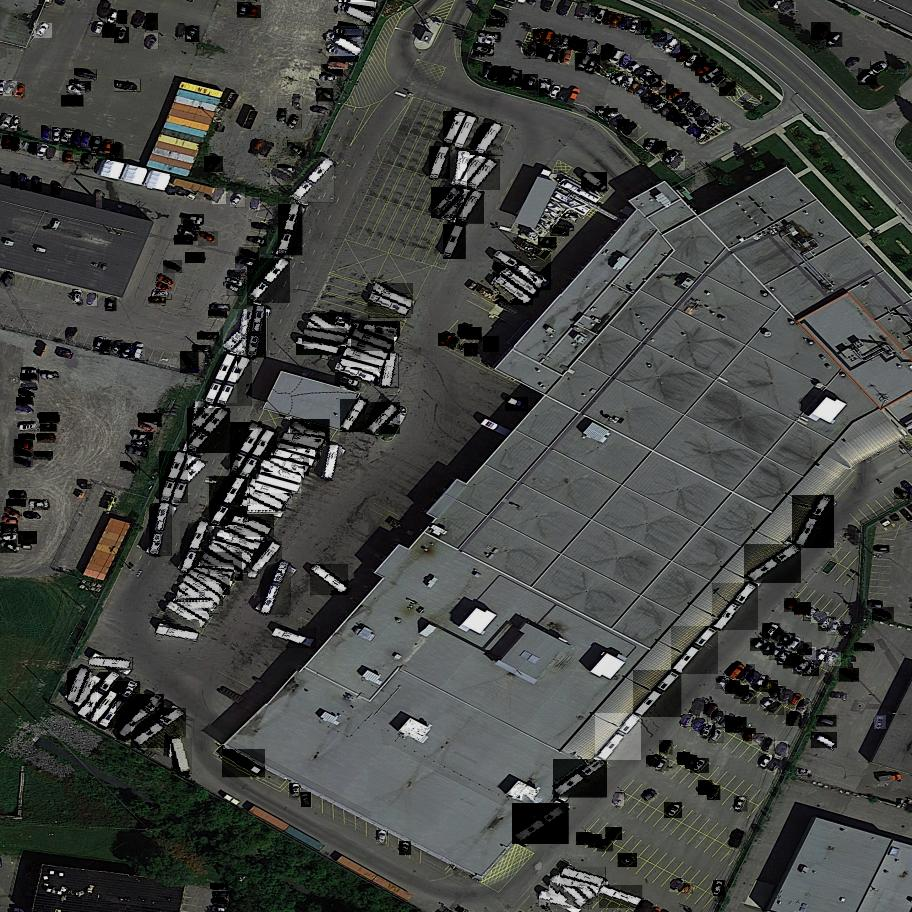large-vehicle: (671, 625, 720, 678), (633, 668, 682, 720), (793, 492, 835, 551), (744, 543, 801, 586), (595, 711, 641, 764), (493, 250, 552, 291), (117, 693, 165, 743), (712, 581, 758, 633), (131, 707, 186, 750), (553, 758, 608, 801), (513, 803, 569, 845), (98, 680, 141, 732), (79, 671, 123, 721), (163, 458, 209, 504), (188, 407, 232, 455), (239, 427, 278, 481), (209, 474, 247, 529), (215, 355, 253, 408), (224, 308, 268, 353), (293, 159, 337, 204), (248, 258, 290, 304), (231, 421, 263, 478), (181, 519, 212, 576), (260, 561, 291, 618), (205, 353, 237, 406), (160, 450, 189, 505), (560, 865, 597, 903), (551, 874, 590, 910), (222, 748, 265, 780), (279, 203, 304, 258), (311, 563, 351, 597), (179, 582, 220, 615), (309, 313, 351, 345), (200, 552, 244, 582), (166, 601, 208, 632), (184, 574, 223, 607), (374, 282, 414, 314), (209, 542, 250, 573), (365, 400, 400, 436), (501, 267, 539, 300), (495, 275, 533, 307), (150, 502, 172, 557), (291, 419, 330, 450), (262, 460, 303, 489), (188, 569, 230, 597), (244, 486, 286, 514), (468, 158, 501, 193), (431, 186, 464, 220), (230, 512, 273, 538), (250, 479, 293, 505), (369, 294, 411, 320), (72, 676, 103, 711), (218, 529, 261, 554), (92, 688, 119, 727), (226, 521, 268, 546), (475, 122, 504, 158), (335, 321, 400, 337), (211, 539, 256, 562), (252, 541, 282, 575), (325, 31, 364, 57), (459, 155, 487, 191), (457, 190, 485, 226), (600, 885, 643, 908), (335, 363, 378, 386), (352, 330, 395, 353), (341, 398, 369, 433), (248, 305, 266, 359), (560, 867, 606, 888), (446, 187, 471, 225), (347, 339, 390, 361), (272, 628, 317, 649), (256, 474, 301, 495), (67, 666, 91, 705), (444, 111, 470, 147), (190, 401, 207, 454), (272, 448, 316, 468), (338, 3, 376, 26), (343, 348, 386, 368), (297, 337, 342, 356), (456, 115, 479, 152), (171, 738, 193, 776), (443, 224, 466, 260), (277, 441, 320, 460), (430, 144, 451, 182), (267, 458, 309, 476), (156, 625, 200, 642), (304, 328, 348, 345), (325, 444, 343, 481), (381, 352, 399, 389), (582, 171, 608, 196), (539, 891, 576, 908), (192, 567, 236, 581), (282, 434, 325, 448), (90, 657, 132, 671), (339, 361, 384, 374), (329, 44, 358, 63), (456, 151, 470, 186), (241, 504, 284, 514), (172, 602, 214, 611), (336, 30, 364, 38)
small-vehicle: (812, 732, 838, 752), (270, 168, 295, 187), (181, 350, 200, 374), (654, 33, 676, 53), (735, 664, 755, 686), (727, 828, 746, 851), (699, 67, 723, 85), (727, 661, 747, 682), (258, 141, 277, 163), (812, 22, 832, 42), (763, 622, 781, 644), (725, 717, 747, 735), (125, 445, 149, 461), (505, 397, 529, 413), (131, 11, 150, 31), (784, 652, 804, 671), (663, 148, 683, 167), (555, 218, 578, 234), (204, 155, 223, 174), (178, 225, 198, 243), (505, 69, 523, 89), (321, 64, 343, 80), (138, 413, 163, 427), (665, 801, 683, 820), (524, 41, 542, 60), (199, 231, 219, 248), (115, 79, 141, 92), (575, 1, 591, 22), (815, 647, 830, 669), (35, 22, 53, 40), (859, 69, 877, 87), (521, 74, 539, 92), (691, 758, 709, 776), (871, 58, 890, 75), (575, 53, 592, 72), (759, 696, 778, 713), (750, 637, 769, 654), (251, 138, 267, 158), (840, 668, 860, 684), (489, 8, 509, 24), (18, 387, 39, 402), (586, 54, 601, 75), (873, 607, 894, 622), (695, 63, 716, 78), (692, 698, 707, 719), (157, 273, 175, 290), (758, 753, 775, 771), (664, 38, 681, 56), (67, 85, 86, 101), (80, 152, 96, 171), (287, 142, 306, 158), (91, 20, 107, 39), (777, 633, 796, 649), (619, 853, 638, 869), (163, 260, 183, 275), (240, 247, 260, 262), (120, 461, 140, 476), (829, 618, 844, 638), (755, 674, 770, 694), (701, 721, 716, 741), (235, 255, 256, 269), (13, 447, 34, 461), (826, 31, 843, 48), (803, 662, 820, 679), (70, 130, 86, 148), (44, 145, 60, 163), (286, 113, 302, 131), (845, 57, 863, 73), (684, 52, 700, 70), (794, 660, 812, 676), (483, 336, 499, 354), (577, 830, 593, 848), (606, 826, 622, 844), (487, 65, 503, 83), (709, 727, 725, 745), (726, 679, 742, 697), (623, 121, 639, 139), (473, 43, 495, 56), (224, 282, 243, 297), (707, 784, 722, 803), (13, 456, 33, 470), (111, 143, 125, 163), (61, 96, 84, 108), (181, 214, 204, 226), (100, 339, 116, 356), (111, 340, 127, 357), (231, 193, 247, 210), (317, 88, 334, 104), (144, 33, 160, 50), (768, 700, 784, 717), (691, 57, 707, 74), (676, 48, 693, 64), (635, 20, 651, 37), (770, 685, 786, 702), (804, 607, 820, 624), (789, 637, 805, 654), (777, 650, 793, 667), (458, 324, 474, 341), (678, 96, 694, 113), (711, 73, 728, 89), (120, 342, 135, 360), (4, 80, 19, 98), (60, 128, 75, 146), (213, 188, 228, 206), (5, 506, 23, 521), (186, 25, 201, 43), (102, 22, 117, 40), (734, 684, 749, 702), (770, 644, 785, 662), (438, 332, 456, 347), (699, 780, 714, 798), (672, 91, 690, 106), (646, 94, 664, 109), (131, 343, 145, 362), (19, 531, 38, 545), (238, 1, 252, 20), (115, 26, 129, 45), (787, 710, 801, 729), (75, 69, 97, 81), (225, 277, 245, 290), (817, 715, 837, 728), (0, 272, 16, 288), (795, 601, 811, 617), (785, 598, 801, 614), (825, 651, 841, 667), (741, 690, 757, 706), (467, 327, 483, 343), (670, 878, 686, 894), (597, 838, 613, 854), (698, 112, 714, 128), (653, 99, 669, 115), (659, 83, 675, 99), (633, 83, 649, 99), (720, 82, 736, 98), (775, 741, 790, 758), (768, 758, 783, 775), (670, 45, 687, 60), (819, 617, 836, 632), (797, 641, 812, 658), (641, 789, 658, 804), (706, 117, 723, 132), (674, 113, 691, 128), (641, 89, 656, 106), (646, 755, 663, 770), (715, 676, 732, 691), (644, 137, 659, 154), (156, 281, 174, 295), (140, 422, 158, 436), (790, 692, 804, 710), (602, 45, 616, 63), (811, 611, 829, 625), (665, 88, 683, 102), (0, 540, 19, 553), (538, 236, 557, 249), (498, 66, 511, 85), (66, 327, 81, 343), (20, 381, 40, 393), (247, 236, 267, 248), (341, 379, 361, 391), (764, 679, 779, 695), (747, 671, 762, 687), (680, 118, 696, 133), (653, 80, 669, 95), (656, 758, 671, 774), (692, 717, 708, 732), (719, 714, 734, 730), (80, 132, 94, 149), (247, 4, 261, 21), (107, 8, 121, 25), (762, 736, 776, 753), (797, 699, 811, 716), (611, 50, 625, 67), (840, 623, 854, 640), (478, 36, 495, 50), (536, 42, 550, 59), (688, 102, 702, 119), (662, 102, 676, 119), (645, 75, 662, 89), (705, 703, 719, 720), (610, 114, 627, 128), (672, 155, 686, 172), (779, 2, 797, 15), (543, 29, 556, 47), (29, 500, 50, 511), (186, 252, 205, 264), (15, 439, 34, 451), (146, 13, 158, 32), (550, 225, 569, 237), (735, 795, 747, 814), (687, 123, 702, 138), (712, 711, 727, 726), (0, 113, 14, 129), (619, 16, 633, 32), (626, 61, 642, 75), (895, 488, 911, 502), (621, 75, 635, 91), (548, 85, 562, 101), (545, 47, 559, 63), (666, 108, 682, 122), (696, 127, 710, 143), (604, 108, 618, 124), (681, 713, 695, 729), (651, 141, 667, 155), (595, 8, 608, 25), (632, 66, 649, 79), (611, 72, 628, 85), (628, 18, 641, 35), (780, 689, 793, 706), (628, 79, 641, 96), (660, 740, 673, 757), (40, 413, 60, 424), (278, 164, 298, 175), (563, 49, 575, 67), (713, 879, 725, 897), (691, 109, 709, 121), (71, 81, 92, 91), (610, 14, 624, 29), (771, 630, 785, 645), (465, 343, 479, 358), (533, 29, 547, 44), (174, 235, 193, 246), (310, 105, 329, 116), (651, 32, 667, 45), (641, 68, 654, 84), (589, 834, 602, 850), (289, 783, 302, 799), (94, 336, 106, 353), (102, 138, 114, 155), (744, 727, 756, 744), (875, 714, 887, 731), (685, 754, 697, 771), (19, 423, 39, 433), (251, 222, 271, 232), (2, 524, 20, 535), (540, 79, 551, 97), (753, 734, 768, 747), (620, 54, 633, 69), (448, 336, 461, 351), (376, 830, 389, 845), (63, 150, 75, 166), (185, 222, 201, 234), (763, 641, 775, 657), (399, 841, 411, 857), (329, 60, 348, 70), (106, 296, 117, 313), (867, 599, 884, 610), (678, 752, 691, 766), (87, 293, 99, 308), (21, 374, 39, 384), (10, 116, 22, 131), (133, 432, 153, 441), (33, 452, 53, 461), (806, 647, 818, 662), (682, 882, 694, 897), (613, 792, 625, 807), (480, 32, 500, 41), (301, 792, 312, 808), (235, 264, 254, 273), (486, 19, 505, 28), (25, 511, 42, 521), (561, 213, 578, 223), (618, 119, 631, 132), (198, 332, 219, 340), (596, 106, 610, 118), (92, 136, 103, 151), (32, 178, 43, 193), (16, 398, 34, 407), (37, 434, 55, 443), (41, 372, 61, 380), (16, 83, 26, 99), (320, 74, 340, 82), (6, 500, 26, 508), (854, 643, 874, 651), (72, 290, 83, 304), (16, 406, 33, 415), (152, 291, 171, 299), (37, 144, 47, 159), (589, 5, 599, 20), (212, 896, 227, 906), (53, 127, 62, 143), (2, 515, 18, 524), (2, 534, 18, 543), (214, 891, 232, 899), (570, 37, 581, 50), (605, 12, 615, 26), (52, 183, 62, 197), (22, 368, 39, 376), (40, 424, 57, 432), (131, 440, 148, 448), (193, 345, 210, 353), (483, 62, 491, 79), (229, 273, 248, 280), (2, 135, 11, 149), (830, 692, 848, 699), (178, 24, 186, 39), (21, 176, 29, 191), (30, 142, 39, 155), (211, 305, 230, 311), (294, 94, 302, 108), (588, 40, 596, 54), (209, 311, 227, 317), (210, 884, 228, 890), (11, 173, 18, 188), (42, 126, 50, 139), (12, 138, 20, 151), (552, 34, 560, 47), (18, 434, 35, 440), (120, 10, 127, 24), (252, 198, 260, 210), (796, 769, 812, 775), (555, 51, 563, 63), (96, 192, 102, 208), (279, 108, 286, 121), (563, 37, 570, 50), (149, 298, 166, 303), (9, 492, 25, 497), (579, 40, 586, 51), (874, 546, 889, 551)
